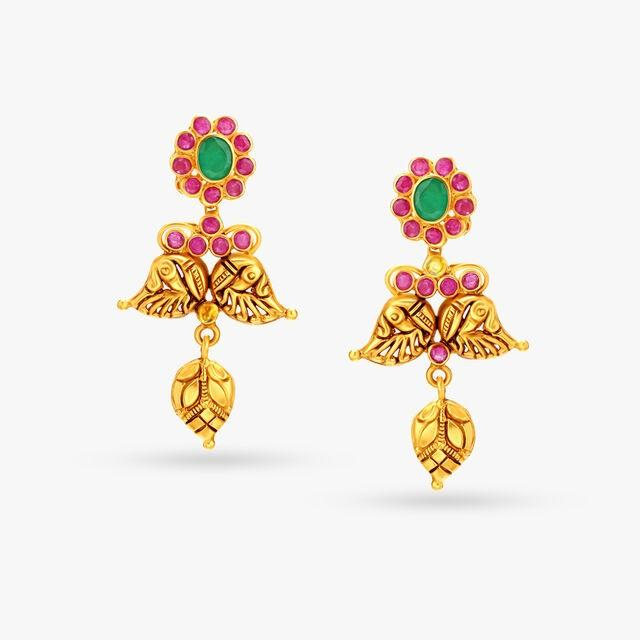missing gem: (427, 257, 445, 275), (200, 304, 216, 323)
